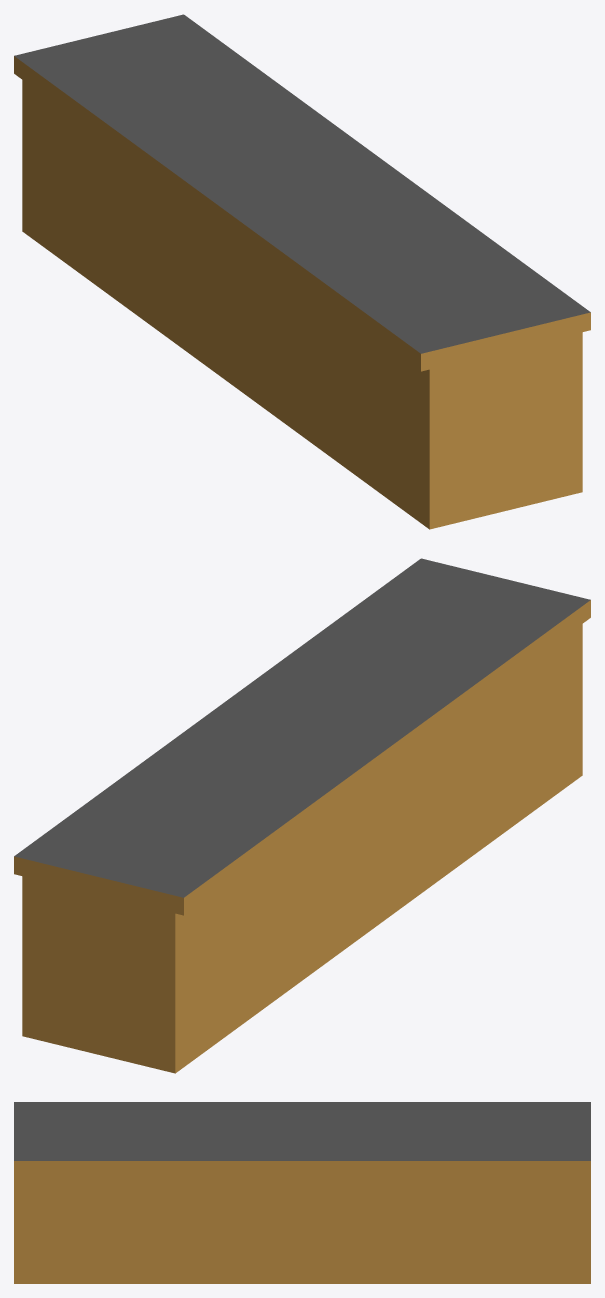
File: Skate_Slide_Rail_Thick_Double_Flat_01.FBX
The picture shows the model from 3 angles, top to bottom: view 1: azimuth 30°, elevation 25°; view 2: azimuth 150°, elevation 25°; view 3: azimuth 270°, elevation 25°; orthographic projection. The views are drawn at different scales.
Parts seen in each view (by area): view 1: Skate_Slide_Rail_Thick_Double_Flat_01; view 2: Skate_Slide_Rail_Thick_Double_Flat_01; view 3: Skate_Slide_Rail_Thick_Double_Flat_01.
Boxes of the visible parts, left/top/right/bottom form: Skate_Slide_Rail_Thick_Double_Flat_01: left=14, top=14, right=590, bottom=529; Skate_Slide_Rail_Thick_Double_Flat_01: left=14, top=558, right=590, bottom=1073; Skate_Slide_Rail_Thick_Double_Flat_01: left=14, top=1102, right=590, bottom=1283.
Size of the model in its own units: 0.7229 by 0.7229 by 3.
